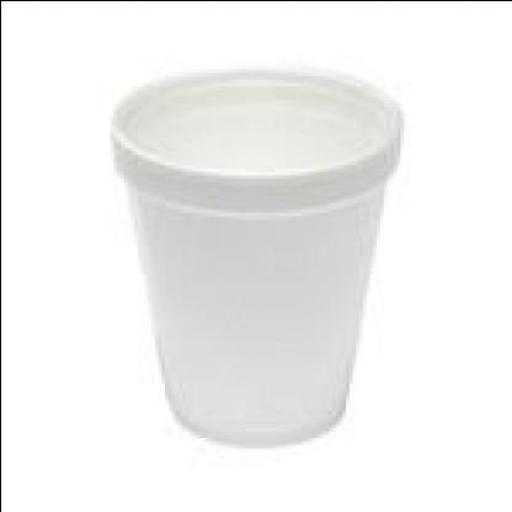paper: (102, 65, 400, 440)
